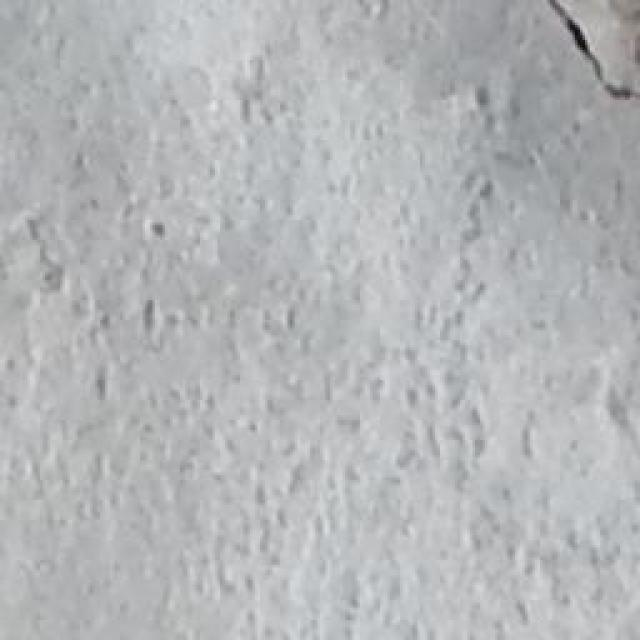concrete-crack: (541, 0, 640, 106)
